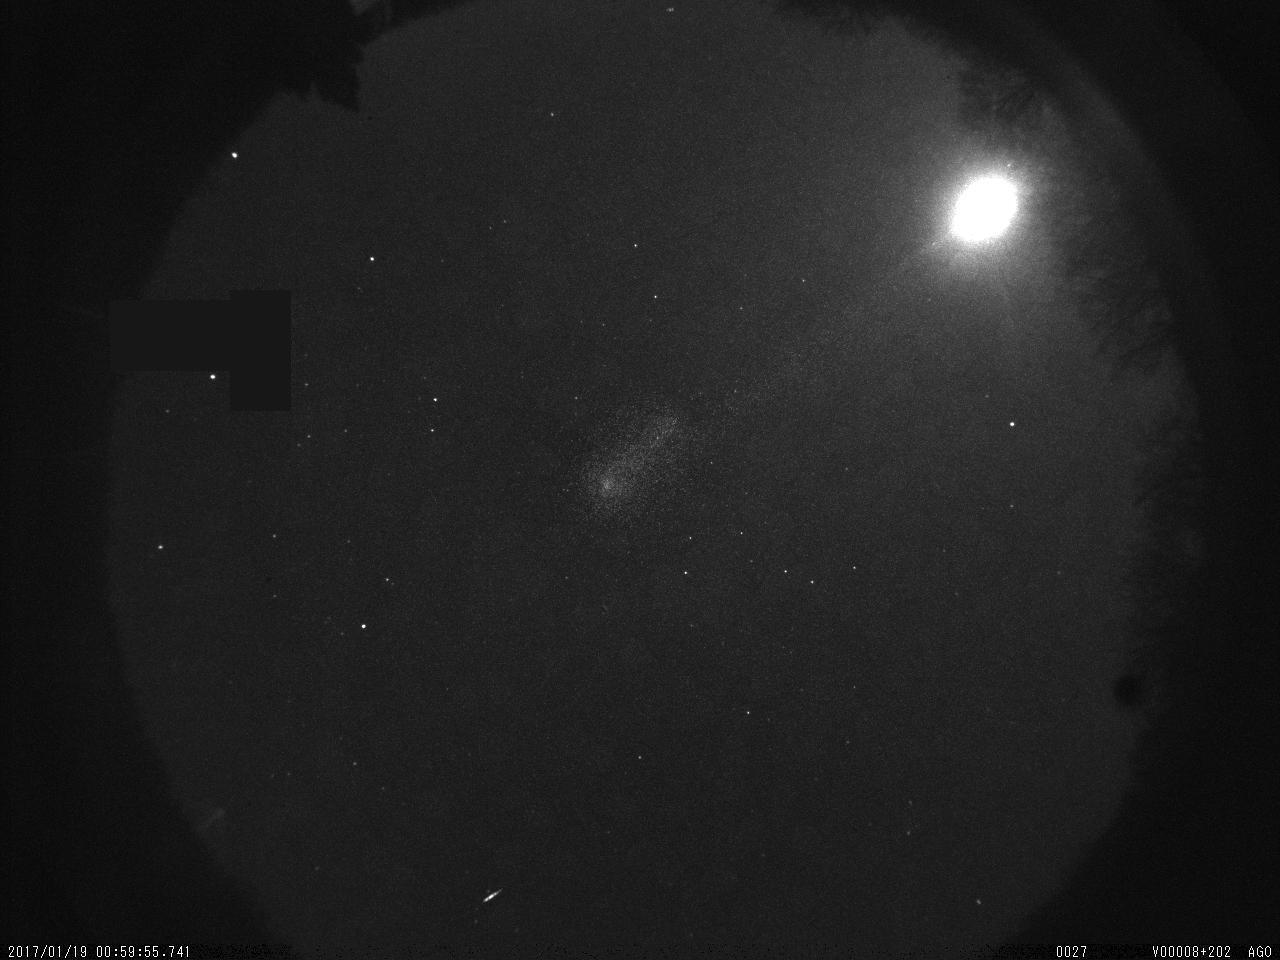meteor: (460, 871, 521, 925)
